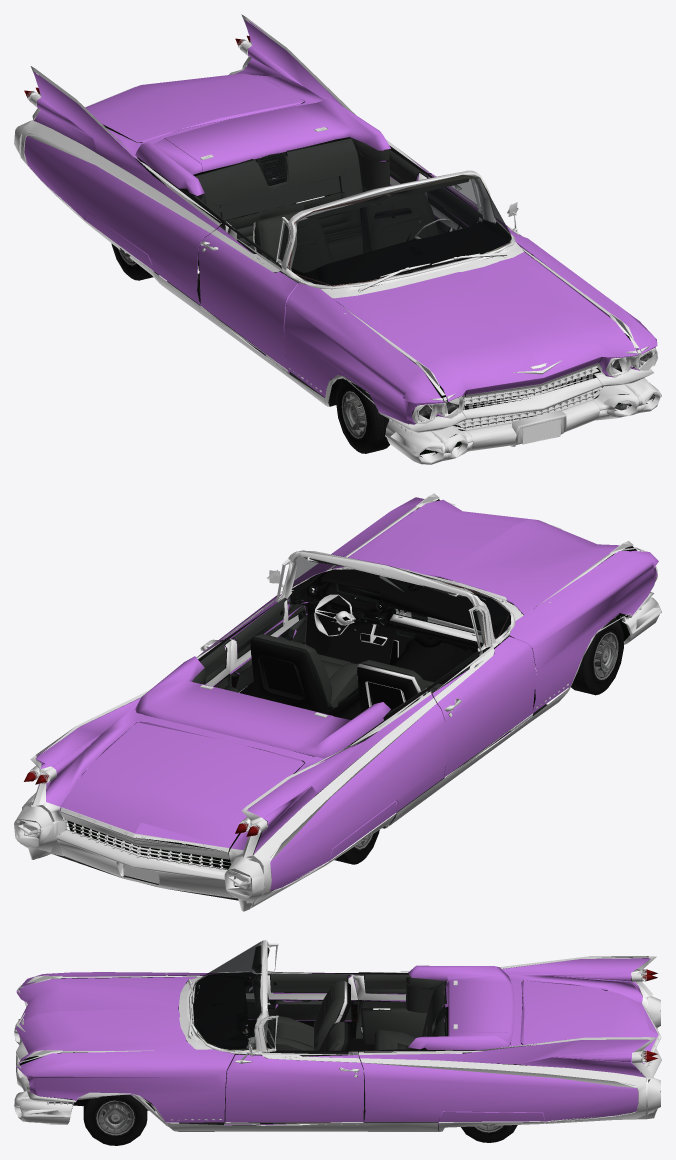
File: gt_eldorado_mid.glb
3 renders of one model, top to bottom at view 1: azimuth 30°, elevation 25°; view 2: azimuth 150°, elevation 25°; view 3: azimuth 270°, elevation 25°, orthographic. The views are drawn at different scales.
Visible parts, largest first — view 1: Object_4, Object_3, Object_5, Object_9, Object_13, WHEEL_RF_TIRE, Object_6, Object_7, Object_12, WHEEL_RF_RIM; view 2: Object_4, Object_3, Object_5, Object_13, Object_7, Object_6, Object_9, WHEEL_RF_TIRE, Object_12, WHEEL_RF_RIM; view 3: Object_4, Object_3, Object_5, Object_9, Object_13, WHEEL_LF_TIRE, Object_7, Object_12, WHEEL_LF_RIM, WHEEL_LR_TIRE, Object_6, Object_10.
Boxes of the visible parts, <box> form: Object_4: <box>24,19,657,424</box>; Object_3: <box>189,137,511,286</box>; Object_5: <box>15,14,661,464</box>; Object_9: <box>278,174,511,284</box>; Object_13: <box>14,41,660,462</box>; WHEEL_RF_TIRE: <box>336,378,389,453</box>; Object_6: <box>97,101,654,457</box>; Object_7: <box>209,173,560,444</box>; Object_12: <box>137,137,621,416</box>; WHEEL_RF_RIM: <box>341,391,366,438</box>; Object_4: <box>35,497,658,890</box>; Object_3: <box>192,557,533,762</box>; Object_5: <box>14,493,661,911</box>; Object_13: <box>15,500,659,907</box>; Object_7: <box>123,575,482,884</box>; Object_6: <box>59,499,631,884</box>; Object_9: <box>293,551,511,646</box>; WHEEL_RF_TIRE: <box>571,617,623,695</box>; Object_12: <box>59,546,636,820</box>; WHEEL_RF_RIM: <box>593,632,618,679</box>; Object_4: <box>15,958,658,1127</box>; Object_3: <box>186,946,446,1119</box>; Object_5: <box>14,940,661,1131</box>; Object_9: <box>192,941,275,1050</box>; Object_13: <box>14,940,660,1125</box>; WHEEL_LF_TIRE: <box>83,1095,147,1145</box>; Object_7: <box>243,975,405,1072</box>; Object_12: <box>19,972,641,1124</box>; WHEEL_LF_RIM: <box>96,1100,134,1135</box>; WHEEL_LR_TIRE: <box>461,1125,517,1142</box>; Object_6: <box>19,945,639,1121</box>; Object_10: <box>54,1064,632,1131</box>.
Size of the model in its own units: 2.08 by 1.28 by 5.77.
Materials: 13 (7 with a texture image).
